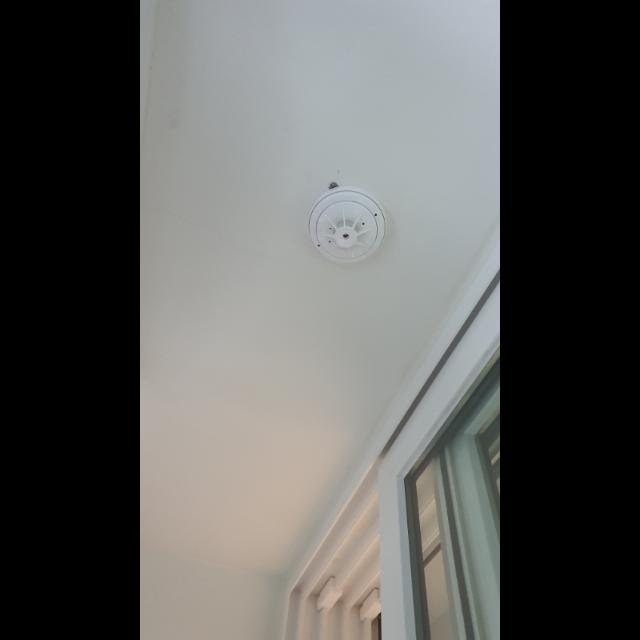Smoke-Detector: (307, 190, 387, 264)
